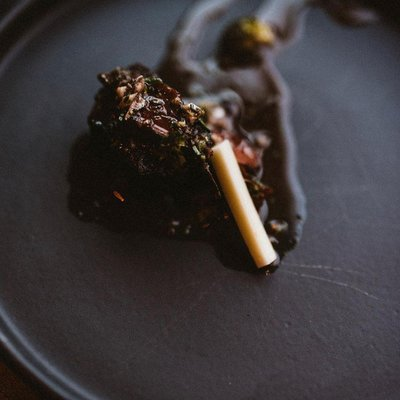pizza: (208, 138, 279, 271)
sushi: (67, 66, 228, 237)
